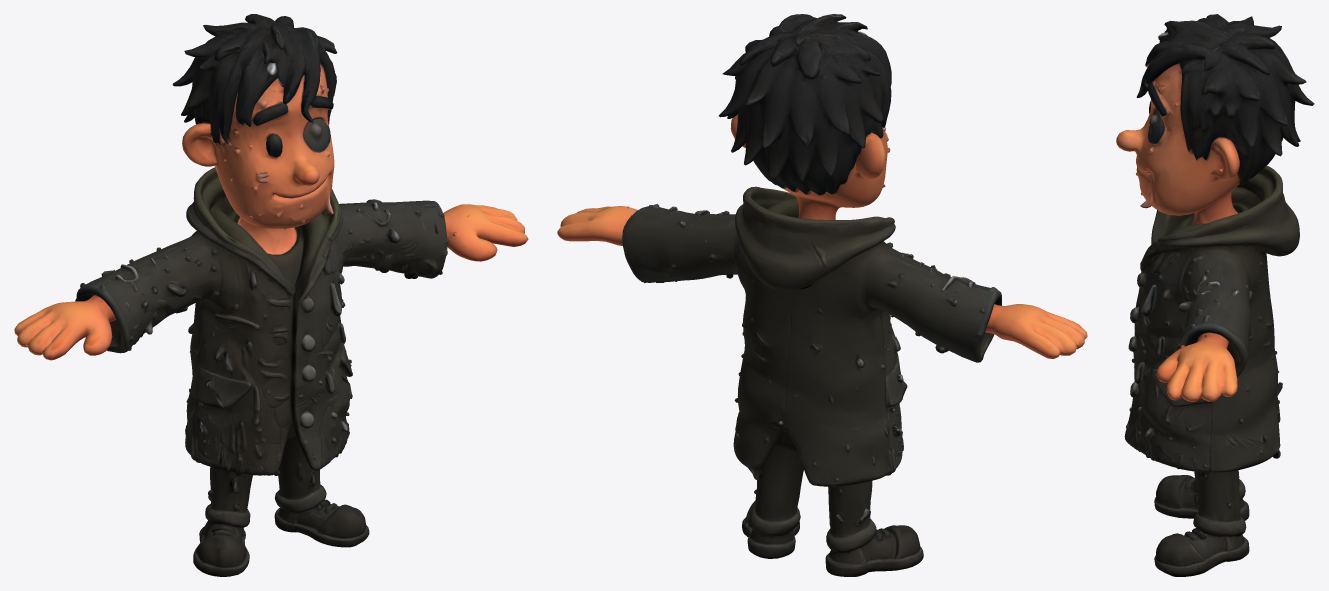
The model's file is rinse.glb.
The picture shows the model from 3 angles, left to right: view 1: azimuth 30°, elevation 25°; view 2: azimuth 150°, elevation 25°; view 3: azimuth 270°, elevation 25°; orthographic projection. The views are drawn at different scales.
Parts seen in each view (by area): view 1: rinse; view 2: rinse; view 3: rinse.
Boxes of the visible parts, x1,y1,x2,y2 form: rinse: [14, 14, 528, 576]; rinse: [557, 14, 1087, 576]; rinse: [1116, 14, 1314, 576].
Size of the model in its own units: 1.76 by 1.75 by 0.6084.
1 material, 1 textured.
